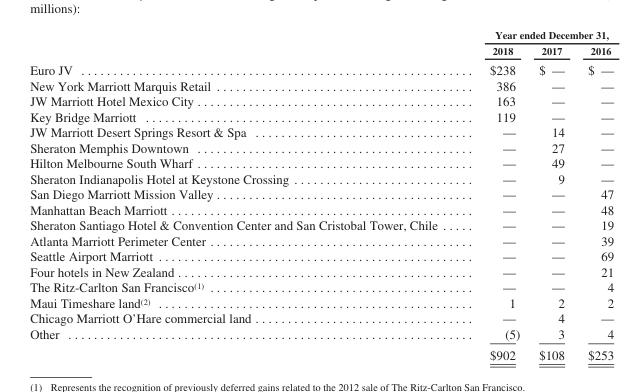table: (29, 28, 613, 361)
table column: (29, 28, 462, 361), (462, 28, 528, 361), (528, 28, 575, 361), (575, 28, 613, 361)
table column header: (29, 28, 613, 59)
table row: (29, 59, 613, 77), (29, 325, 613, 343), (29, 343, 613, 361), (29, 42, 613, 59), (29, 77, 613, 93), (29, 108, 613, 124), (29, 139, 613, 155), (29, 170, 613, 186), (29, 201, 613, 217), (29, 232, 613, 248), (29, 263, 613, 279), (29, 294, 613, 310), (29, 93, 613, 108), (29, 124, 613, 139), (29, 155, 613, 170), (29, 186, 613, 201), (29, 217, 613, 232), (29, 248, 613, 263), (29, 279, 613, 294), (29, 310, 613, 325), (29, 28, 613, 42)
table spanning cell: (462, 28, 613, 42)
